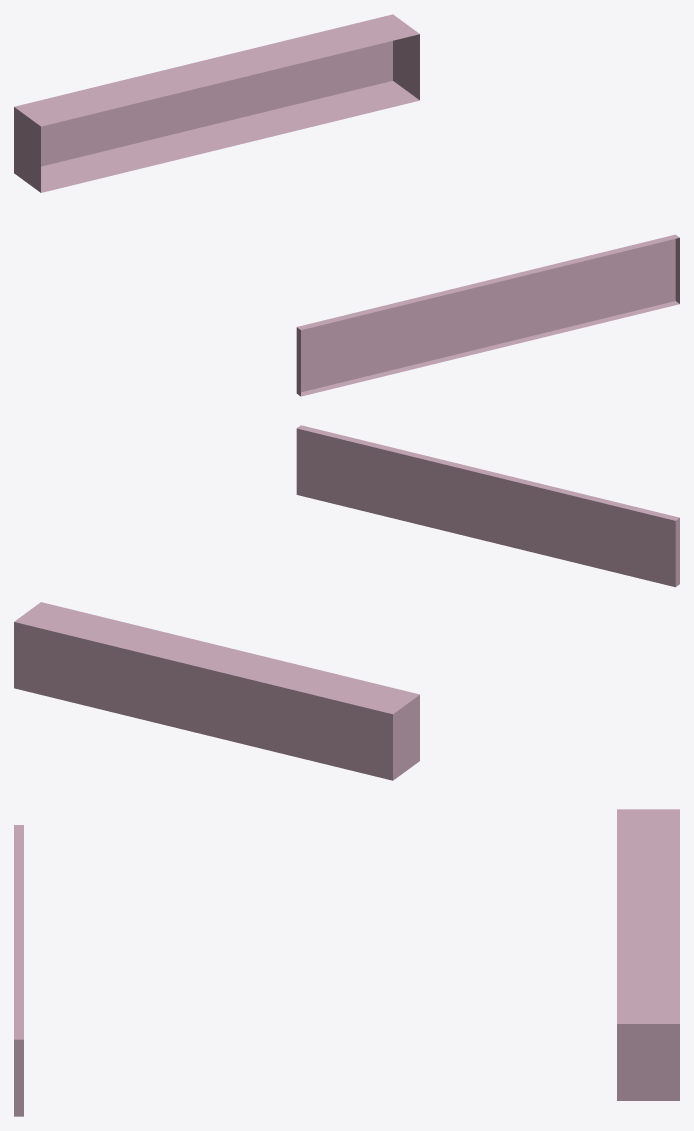
3 renders of one model, top to bottom at view 1: azimuth 30°, elevation 25°; view 2: azimuth 150°, elevation 25°; view 3: azimuth 270°, elevation 25°, orthographic. The views are drawn at different scales.
Visible parts, largest first — view 1: Object80; view 2: Object80; view 3: Object80.
Part boxes in pixels (bbox=[...]): Object80: bbox=[14, 14, 679, 396]; Object80: bbox=[14, 425, 679, 780]; Object80: bbox=[14, 809, 679, 1116].
Size of the model in its own units: 20210 by 4066 by 26500.
